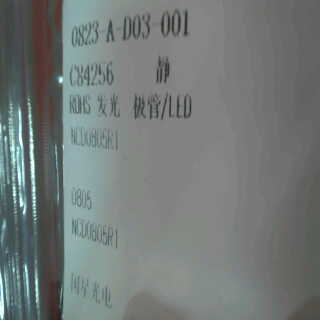LED: (93, 91, 199, 124)
